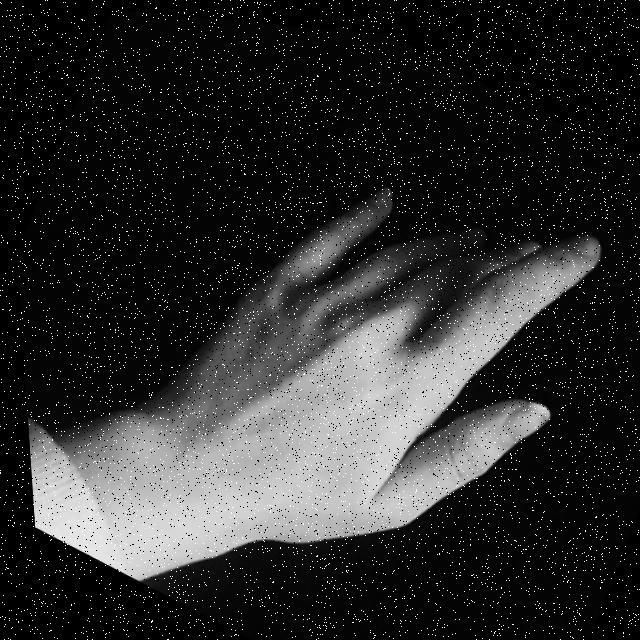no-gloves: (105, 56, 638, 636)
